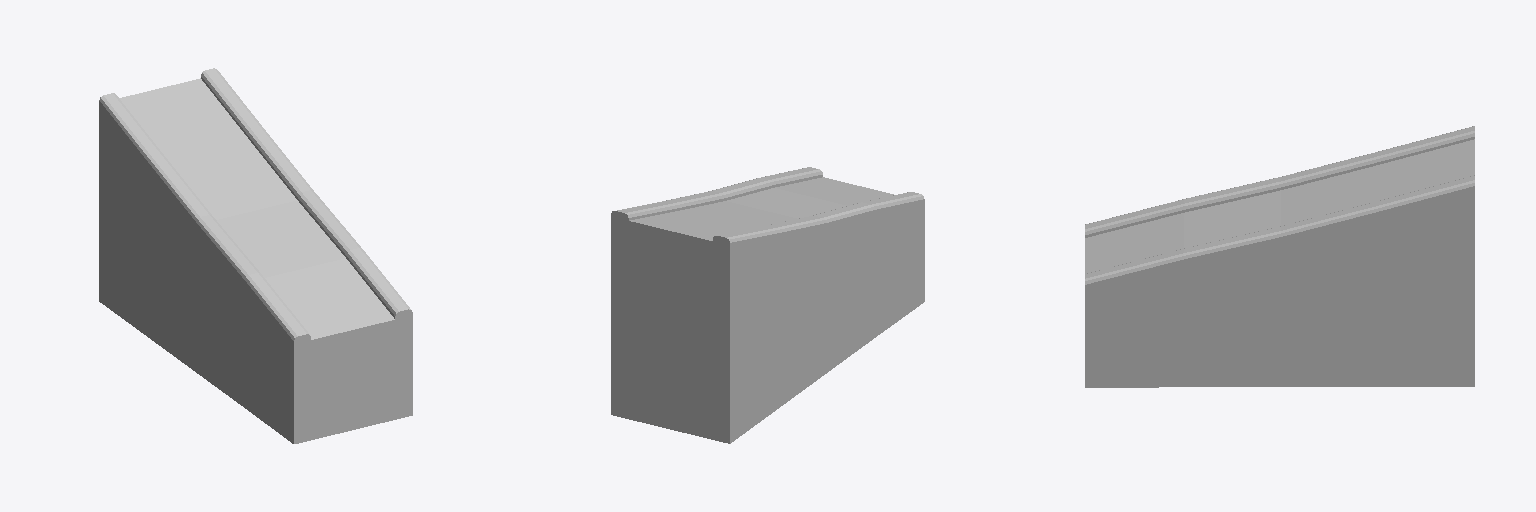
File: PLATAFROMA_SUBIDA_2_escalada.obj
3 renders of one model, left to right at view 1: azimuth 30°, elevation 25°; view 2: azimuth 150°, elevation 25°; view 3: azimuth 270°, elevation 25°, orthographic.
Parts seen in each view (by area): view 1: pasted__pCube3 group3; view 2: pasted__pCube3 group3; view 3: pasted__pCube3 group3.
Boxes of the visible parts, x1=… form: pasted__pCube3 group3: x1=99, y1=68, x2=412, y2=443; pasted__pCube3 group3: x1=611, y1=167, x2=924, y2=443; pasted__pCube3 group3: x1=1085, y1=126, x2=1474, y2=387.
Size of the model in its own units: 212 by 351 by 601.